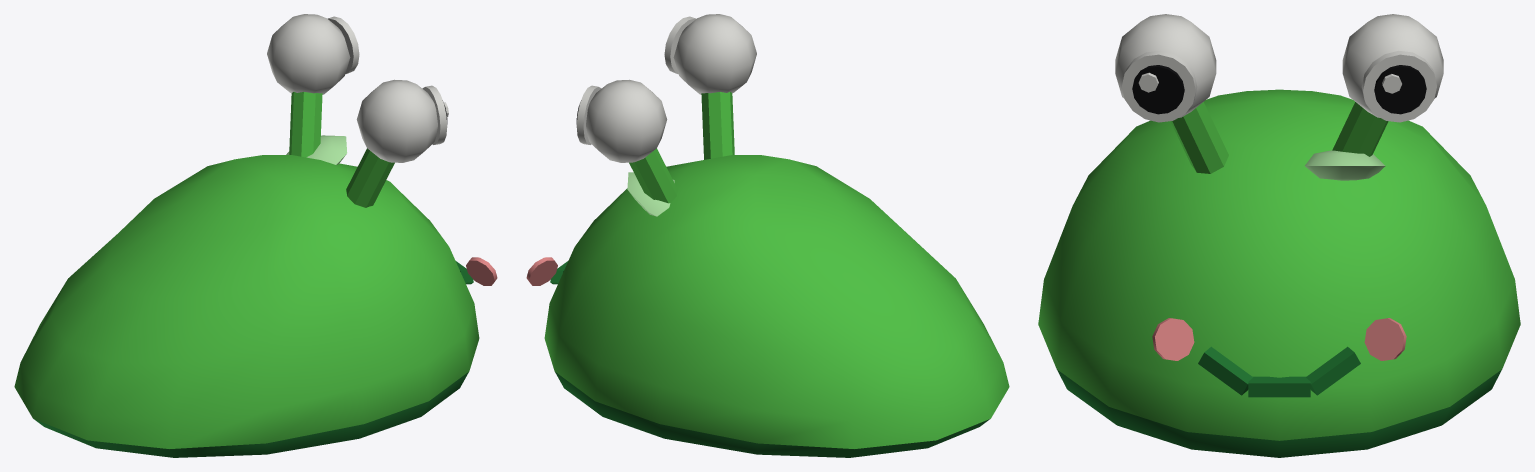
Rendered from slug.glb.
The picture shows the model from 3 angles, left to right: view 1: azimuth 30°, elevation 25°; view 2: azimuth 150°, elevation 25°; view 3: azimuth 270°, elevation 25°; orthographic projection. The views are drawn at different scales.
Visible parts, largest first — view 1: Body, EyeL, EyeR; view 2: Body, EyeR, EyeL; view 3: Body, EyeR, EyeL.
Part boxes in pixels (bbox=[...]): Body: bbox=[14, 135, 497, 457]; EyeL: bbox=[267, 14, 359, 157]; EyeR: bbox=[346, 79, 448, 207]; Body: bbox=[526, 155, 1009, 457]; EyeR: bbox=[664, 14, 756, 159]; EyeL: bbox=[576, 79, 677, 203]; Body: bbox=[1038, 89, 1520, 457]; EyeR: bbox=[1115, 14, 1228, 173]; EyeL: bbox=[1332, 14, 1443, 156].
Size of the model in its own units: 0.995 by 0.6728 by 0.7728.
